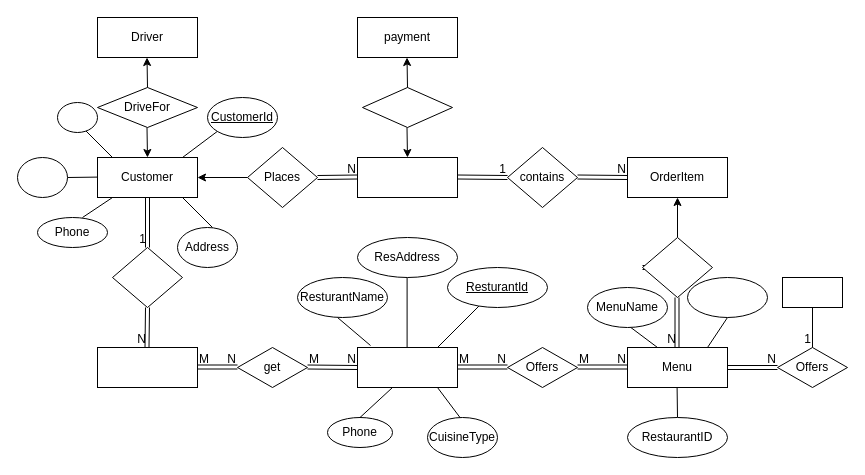
The diagram is 865 pixels wide and 475 high, and some of its shapes have lost their labels. Here are the shapes that lost their labels. From the top down, the centre of each, then its label:
At (x=77, y=117): "Name".
At (x=407, y=107): "PaidBy".
At (x=42, y=177): "Email".
At (x=407, y=177): "Order".
At (x=147, y=277): "Writes".
At (x=677, y=267): "PartsOf".
At (x=727, y=297): "MenuId".
At (x=812, y=292): "MenuItem".
At (x=147, y=367): "Review".
At (x=407, y=367): "Resturant".
